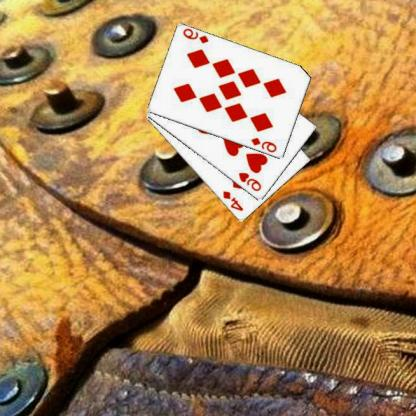4D: (222, 188, 246, 212)
9D: (250, 135, 280, 154), (182, 26, 212, 45)
9H: (238, 170, 265, 193)
